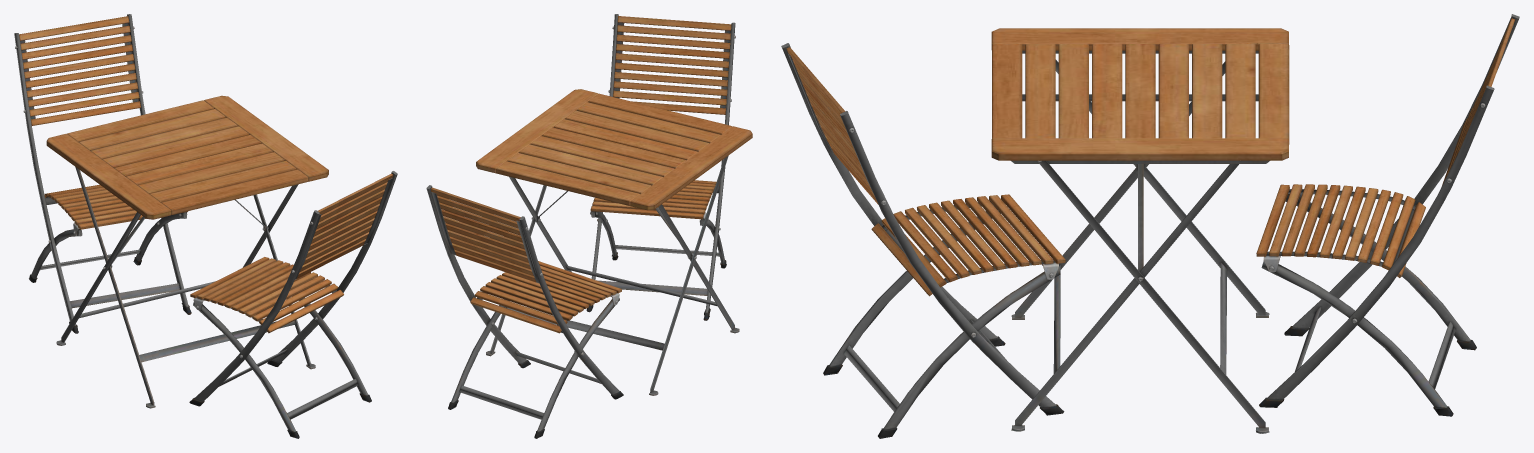
File: terrasse.glb
3 renders of one model, left to right at view 1: azimuth 30°, elevation 25°; view 2: azimuth 150°, elevation 25°; view 3: azimuth 270°, elevation 25°, orthographic. The views are drawn at different scales.
Parts seen in each view (by area): view 1: outdoor_table_chair_set_01_table, outdoor_table_chair_set_01_chair_01, outdoor_table_chair_set_01_chair_02; view 2: outdoor_table_chair_set_01_table, outdoor_table_chair_set_01_chair_02, outdoor_table_chair_set_01_chair_01; view 3: outdoor_table_chair_set_01_table, outdoor_table_chair_set_01_chair_01, outdoor_table_chair_set_01_chair_02.
Part boxes in pixels (x1,y1,x2,y2): outdoor_table_chair_set_01_table: [46, 95, 328, 408]; outdoor_table_chair_set_01_chair_01: [189, 171, 397, 438]; outdoor_table_chair_set_01_chair_02: [14, 14, 191, 333]; outdoor_table_chair_set_01_table: [476, 89, 752, 395]; outdoor_table_chair_set_01_chair_02: [426, 185, 623, 438]; outdoor_table_chair_set_01_chair_01: [586, 14, 735, 320]; outdoor_table_chair_set_01_table: [991, 28, 1289, 433]; outdoor_table_chair_set_01_chair_01: [781, 43, 1065, 438]; outdoor_table_chair_set_01_chair_02: [1256, 14, 1519, 416].
Bounding box in the file's own units: 0.742 × 0.8587 × 1.72.
Materials: 2 (2 with a texture image).
